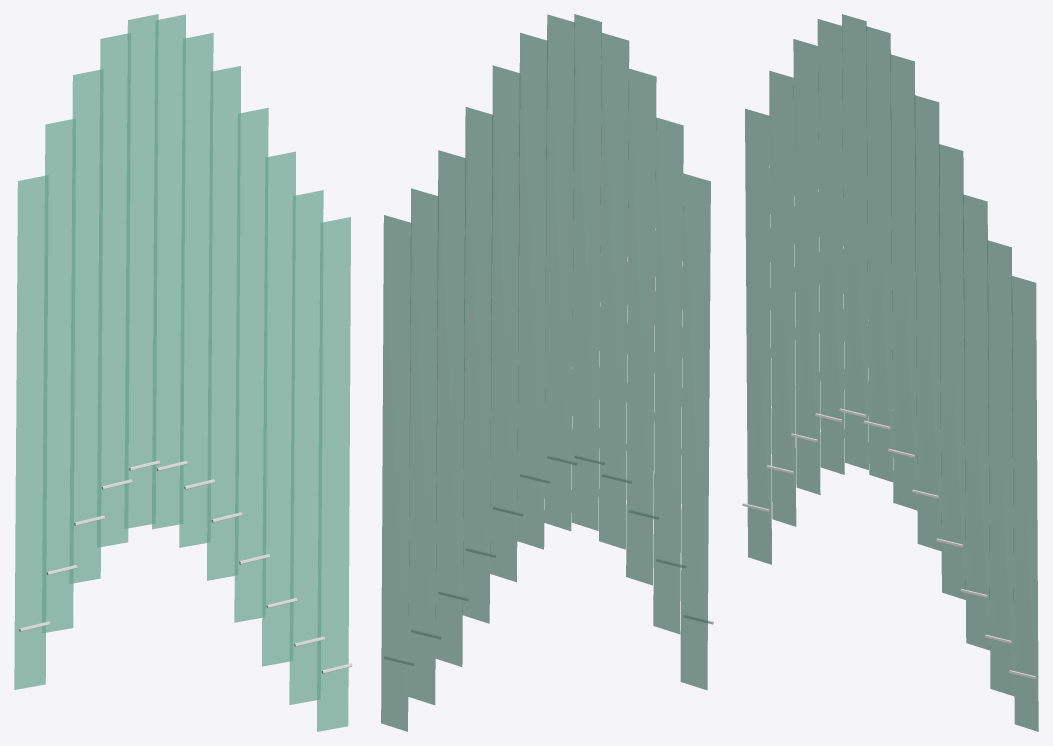
The model's file is aurora_verde.glb.
3 views of the same model, side by side, from view 1: azimuth 30°, elevation 25°; view 2: azimuth 150°, elevation 25°; view 3: azimuth 330°, elevation 25° (orthographic). The views are drawn at different scales.
Visible parts, largest first — view 1: aurora_verde; view 2: aurora_verde; view 3: aurora_verde.
Part boxes in pixels (x1,y1,x2,y2): aurora_verde: (14,14,352,731); aurora_verde: (381,14,713,731); aurora_verde: (742,14,1038,731).
Bounding box in the file's own units: 5.43 × 11.91 × 0.1838.
